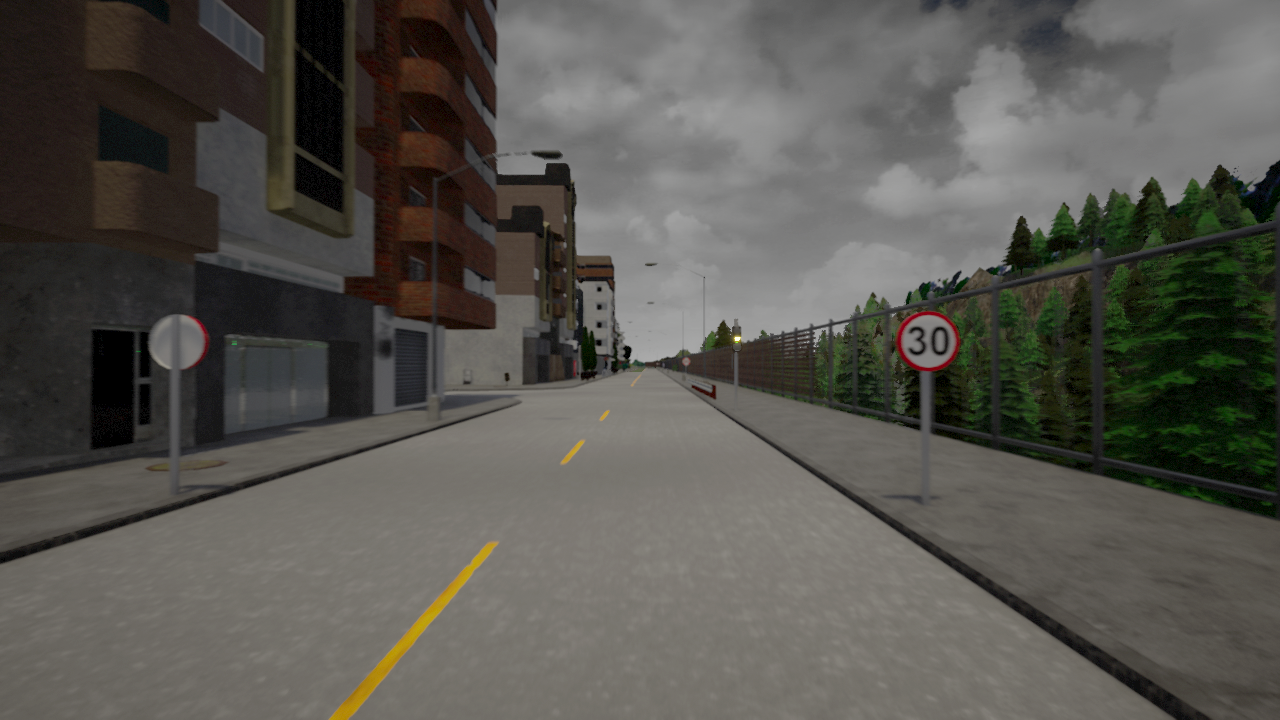yellow: (731, 325, 743, 354)
